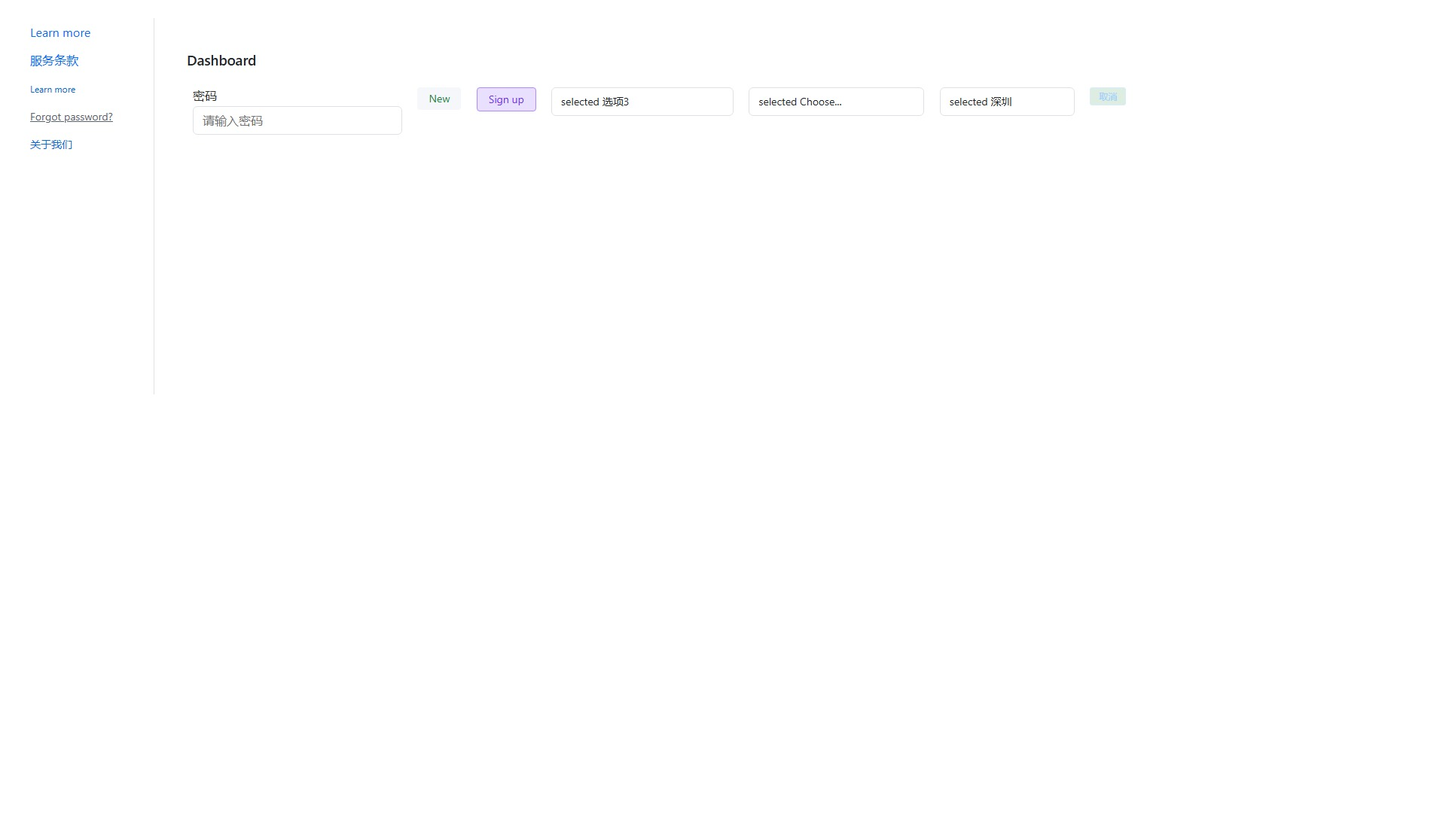button: (477, 87, 536, 111), (418, 87, 461, 110), (1090, 87, 1126, 105)
input: (193, 106, 402, 135)
link: (30, 109, 113, 123), (30, 24, 90, 40), (30, 52, 78, 68), (30, 137, 72, 151), (30, 83, 75, 95)
select: (551, 87, 734, 116), (749, 87, 924, 116), (940, 87, 1075, 116)
